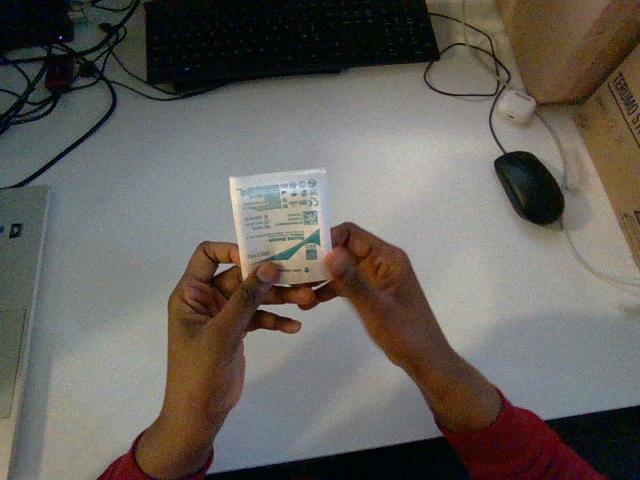gauze: (230, 169, 330, 283)
